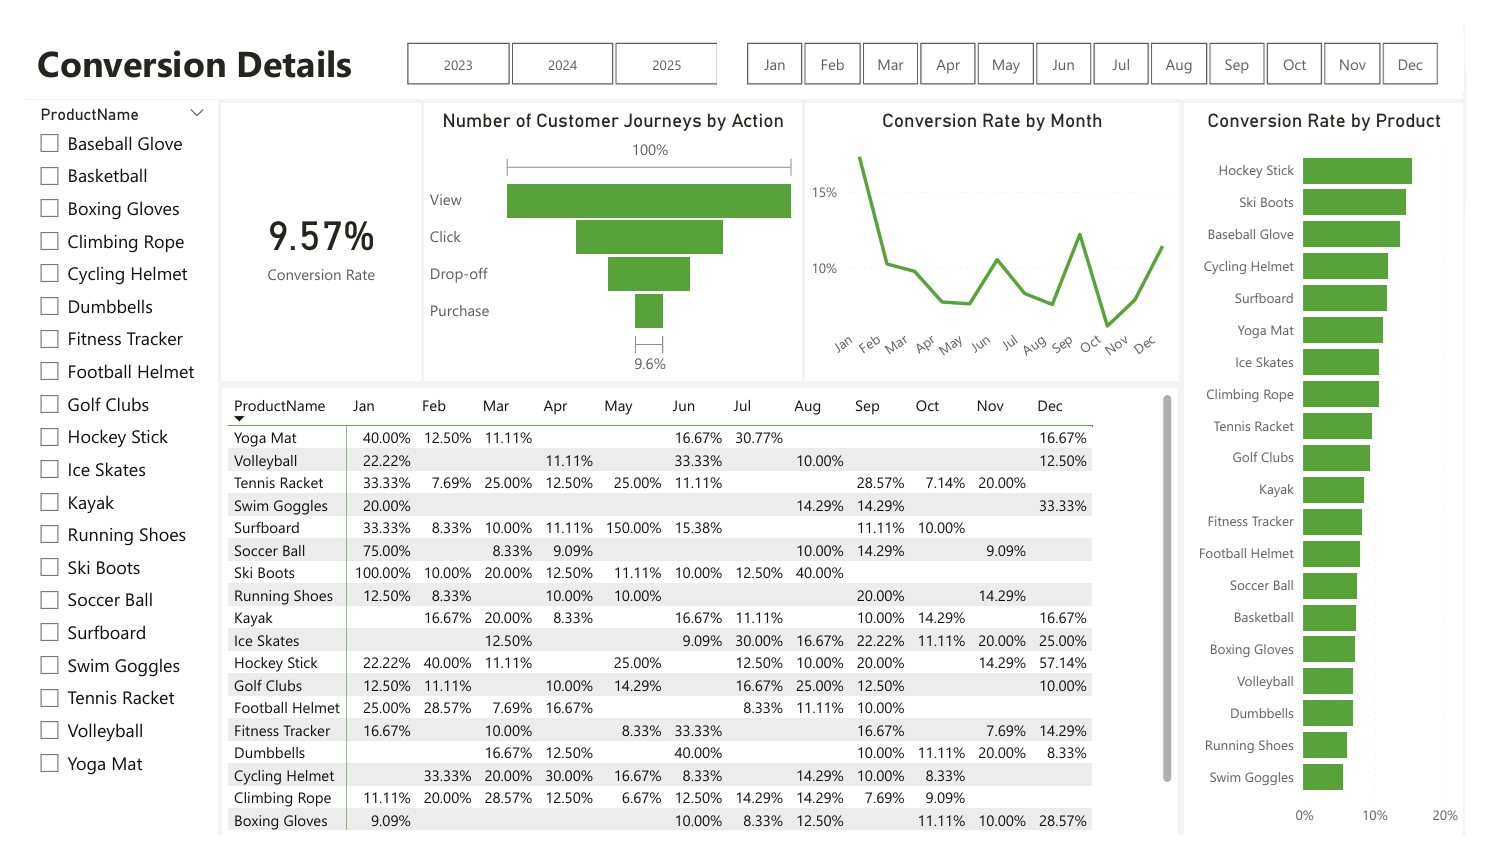

The dashboard page shown, as its layout file describes it:
{"tool":"powerbi","page":{"name":"Conversion Details","canvas":[1280,720],"ordinal":1},"visuals":[{"type":"textbox","box":[0,0,1278.5,64.7],"z":0},{"type":"slicer","fields":{"Values":["products.ProductName"]},"box":[0,65.6,171,654.1],"z":1000},{"type":"card","fields":{"Values":["Calculations.Conversion Rate"]},"box":[173.8,68.9,177.6,247.5],"z":2000},{"type":"slicer","fields":{"Values":["Calendar.Year"]},"box":[313.1,8.2,326.2,50.8],"z":3000},{"type":"slicer","fields":{"Values":["Calendar.MonthNameShort"]},"box":[614.5,8.1,664.9,50.4],"z":4000},{"type":"lineChart","title":"Conversion Rate by Month","fields":{"Y":["Calculations.Conversion Rate"],"Category":["Calendar.MonthNameShort"]},"box":[693.4,68.9,331.1,247.5],"z":5000},{"type":"clusteredBarChart","title":"Conversion Rate by Product","fields":{"Category":["products.ProductName"],"Y":["Calculations.Conversion Rate"]},"box":[1029.5,68.9,248.8,650.8],"z":6000},{"type":"pivotTable","fields":{"Values":["Calculations.Conversion Rate"],"Rows":["products.ProductName"],"Columns":["Calendar.MonthNameShort"]},"box":[174.6,322.4,849.3,397],"z":7000},{"type":"funnel","fields":{"Y":["Calculations.Number of Customer Journeys"],"Category":["fact_customer_journey.Action"]},"box":[354,69,336,247],"z":8000}]}

Visuals, with their boxes in screenshot pixels (x1, y1, x2, y2), scaled from the page's 1280x720 canvas onto the 1486x856 screenshot:
textbox: bbox=(0, 0, 1484, 77)
slicer - products.ProductName: bbox=(0, 78, 199, 855)
card - Calculations.Conversion Rate: bbox=(202, 82, 408, 376)
slicer - Calendar.Year: bbox=(363, 10, 742, 70)
slicer - Calendar.MonthNameShort: bbox=(713, 10, 1485, 70)
"Conversion Rate by Month" lineChart: bbox=(805, 82, 1189, 376)
"Conversion Rate by Product" clusteredBarChart: bbox=(1195, 82, 1484, 855)
pivotTable - Calculations.Conversion Rate x products.ProductName: bbox=(203, 383, 1189, 855)
funnel - Calculations.Number of Customer Journeys x fact_customer_journey.Action: bbox=(411, 82, 801, 376)
